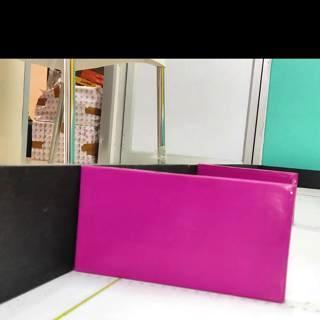xparking: (75, 164, 295, 303), (201, 165, 297, 182)
